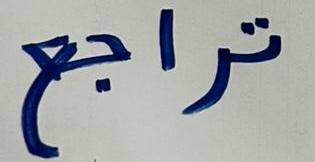ain: (13, 26, 80, 159)
alef: (152, 3, 181, 76)
jeem: (81, 22, 136, 104)
reh: (183, 30, 234, 135)
teh: (235, 3, 289, 87)
